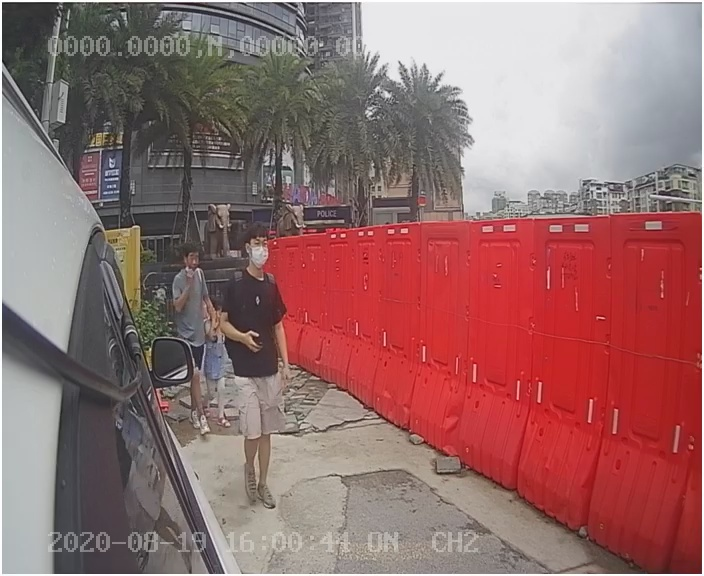person: (209, 234, 308, 515)
